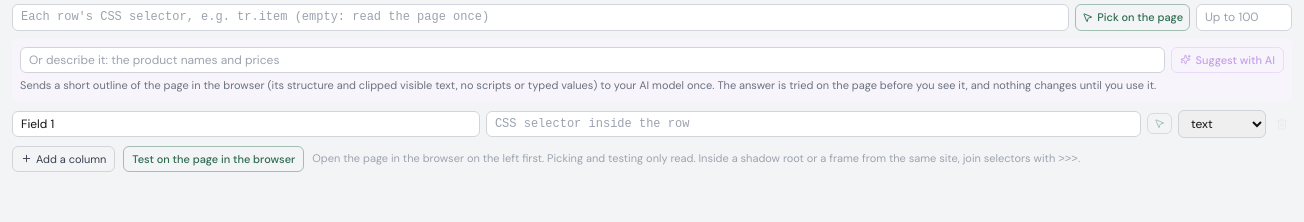
Suggest with AI › shows why no suggestion could be made, in words
In the field named "What to read for step 1": (593, 60) [20,47,1166,73], type "names and prices"
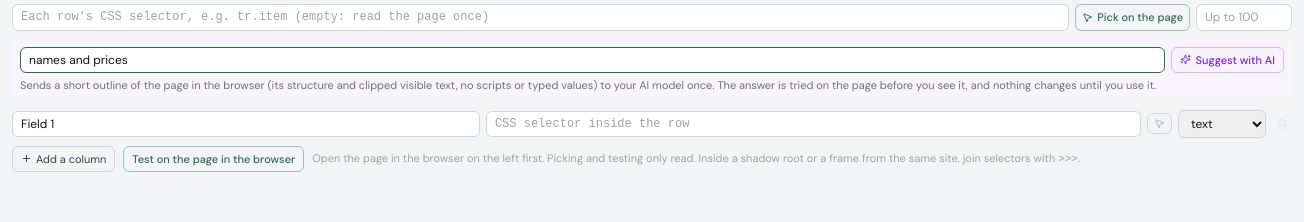
Click the button "Suggest with AI": (1228, 60) [1172,46,1284,73]
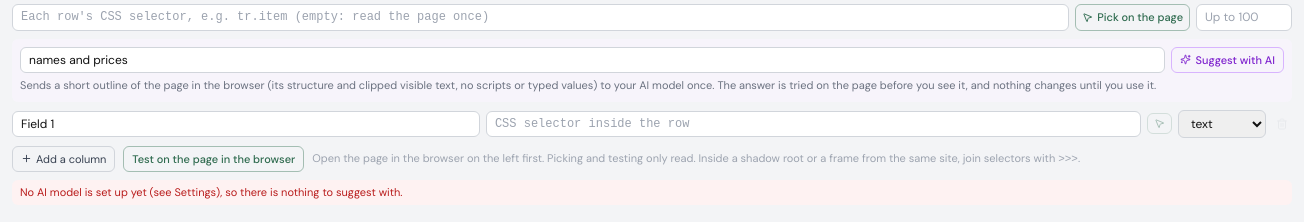
expect the message shows "No AI model is set up": met, box [20,185,402,199]
